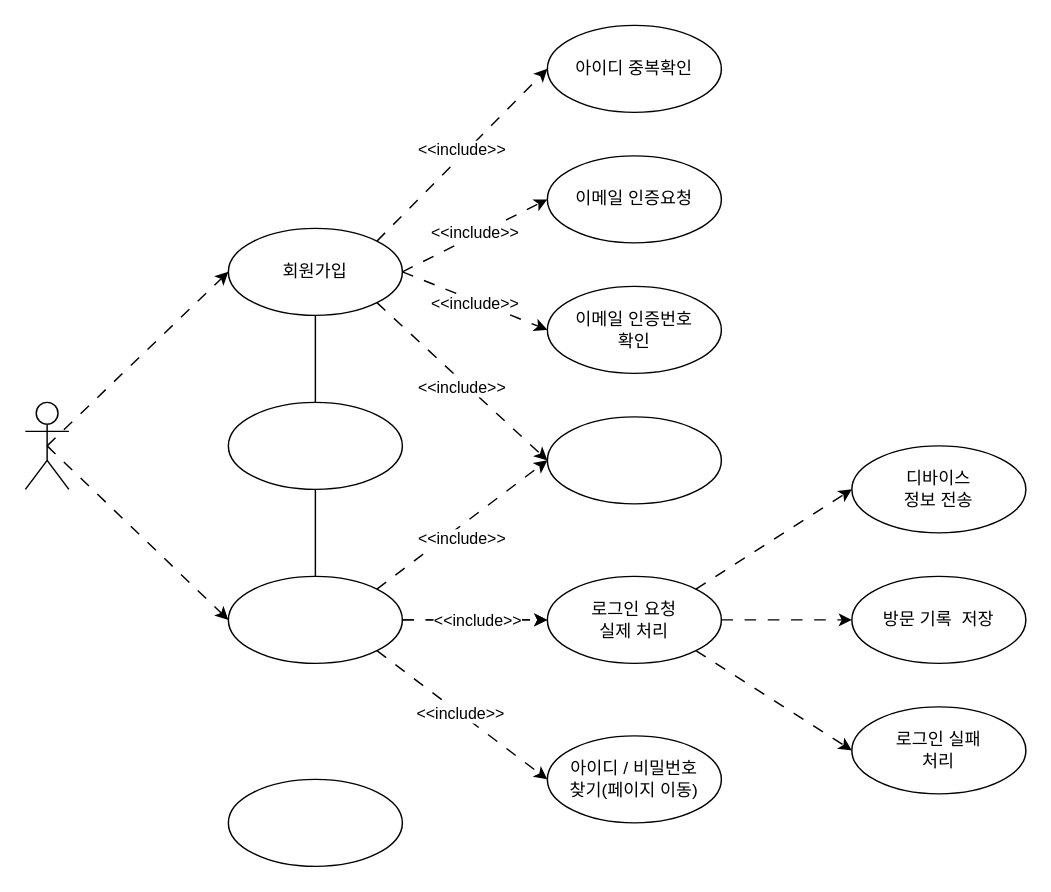
Image size: 1051x892. Some labels were removed from this diagram. The centre of each missing label's shape, as x and y in pixels:
User: [46,445]
로그인: [314,619]
유효성 검사 (ZOD + RHF): [633,459]
회원/비회원간 전환: [314,822]
회원가입/로그인 화면 전환: [314,445]
